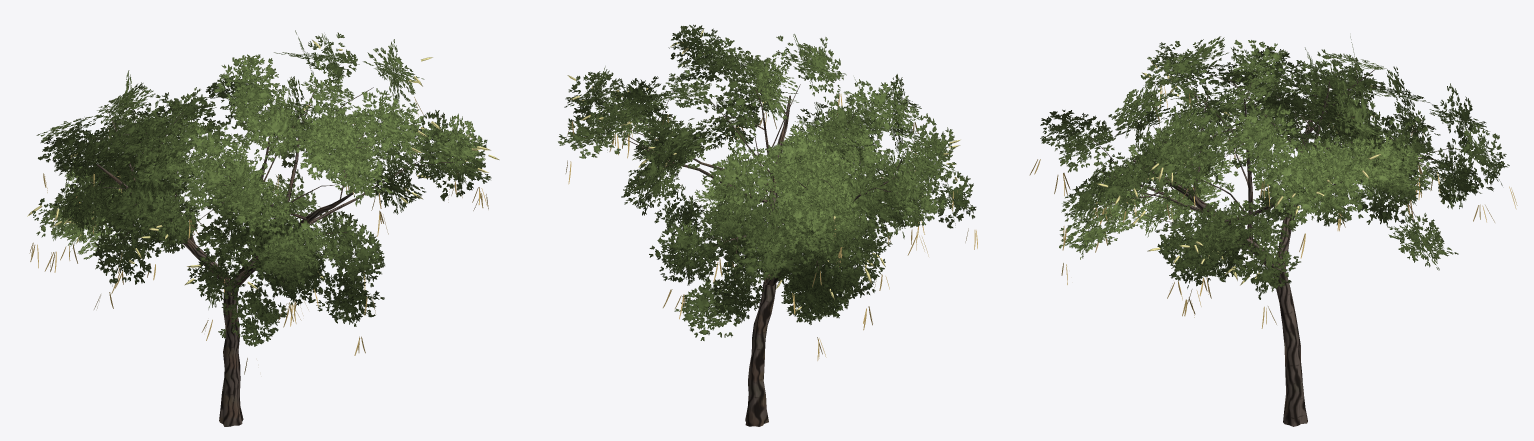
Rendered from young-c.lod0.glb.
The picture shows the model from 3 angles, left to right: view 1: azimuth 30°, elevation 25°; view 2: azimuth 150°, elevation 25°; view 3: azimuth 270°, elevation 25°; orthographic projection. The views are drawn at different scales.
Visible parts, largest first — view 1: foliage, bark, fruit, flowers; view 2: foliage, bark, fruit, flowers; view 3: foliage, bark, fruit, flowers.
Boxes of the visible parts, x1,y1,x2,y2 form: foliage: (32,30,491,346); bark: (85,81,454,426); fruit: (29,97,488,374); flowers: (27,40,499,289); foliage: (558,24,976,340); bark: (607,64,913,426); fruit: (565,94,977,360); flowers: (567,29,960,312); foliage: (1040,36,1509,299); bark: (1089,58,1459,426); fruit: (1029,85,1517,328); flowers: (1096,60,1380,285).
Bounding box in the file's own units: 4.35 × 3.8 × 4.23.
Materials: 5 (2 with a texture image).
